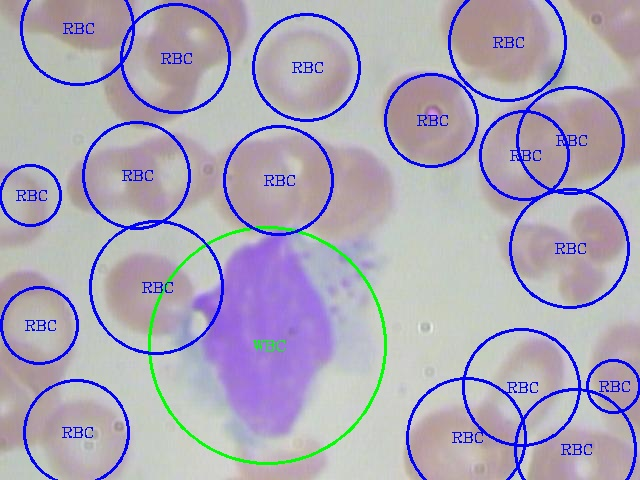RBC: (509, 196, 633, 301), (375, 64, 479, 166), (247, 20, 357, 116), (95, 30, 201, 129), (294, 140, 398, 240), (396, 398, 524, 479), (475, 330, 573, 435), (2, 264, 82, 390), (97, 244, 202, 337), (485, 95, 563, 215), (122, 126, 222, 219), (60, 138, 167, 220), (212, 136, 299, 235), (38, 392, 137, 478), (438, 0, 545, 78), (549, 90, 633, 180), (520, 418, 639, 478), (155, 1, 252, 66), (581, 316, 639, 420), (565, 1, 639, 75), (45, 1, 142, 54), (0, 159, 55, 252)
WBC: (180, 223, 384, 457)
